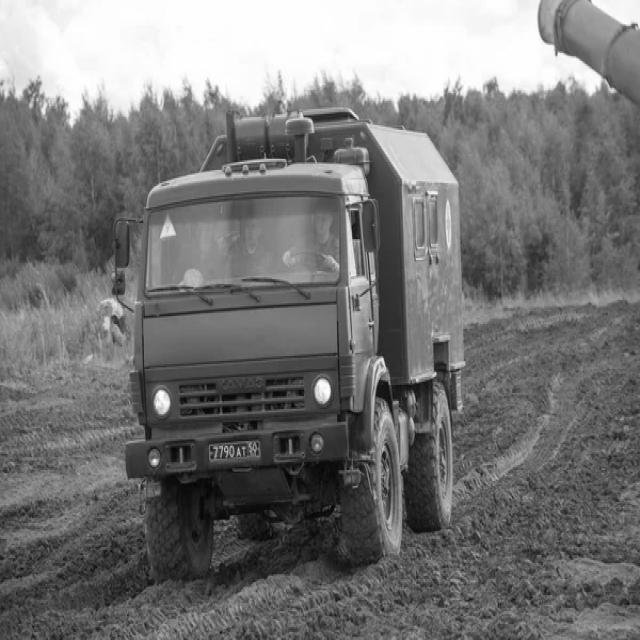Truck: (125, 108, 465, 582)
